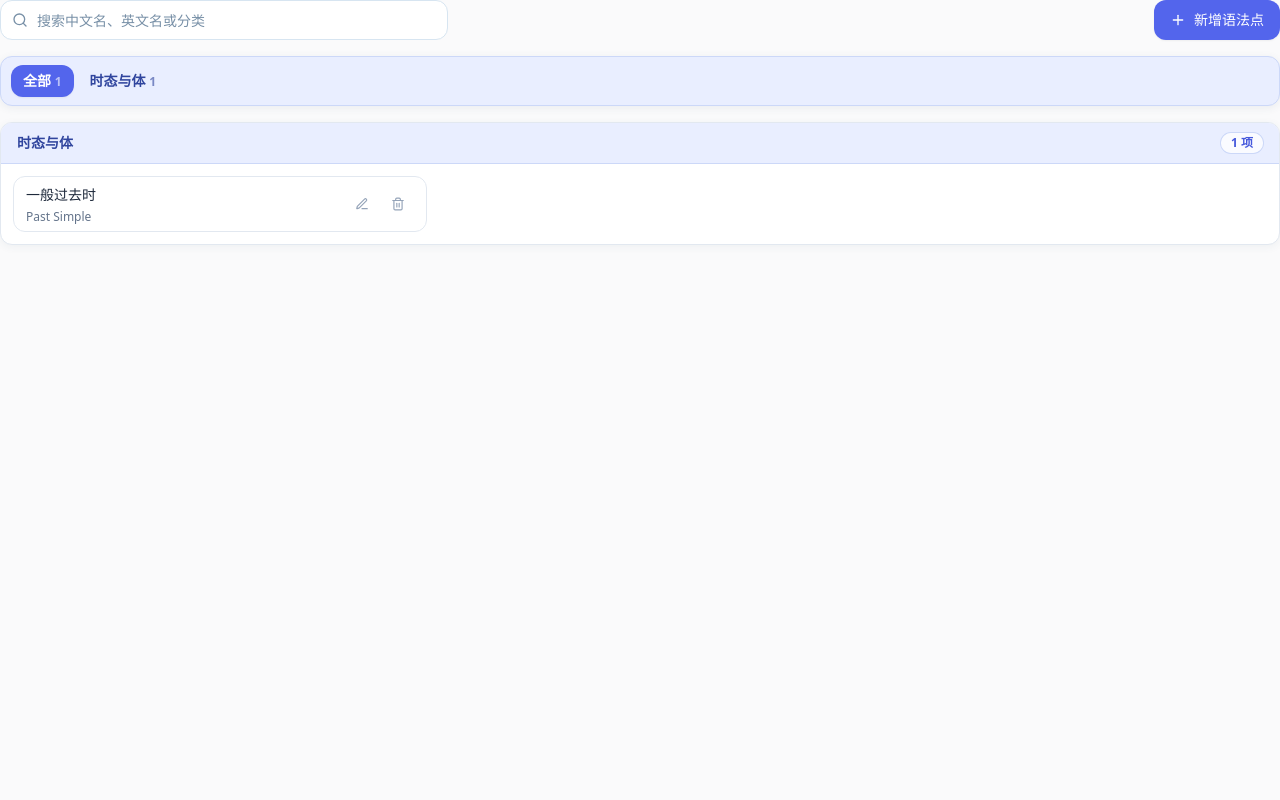
Scenario: PresetLibrary › deletes through the app dialog and removes the card
Expected: the heading "一般过去时" is shown, [26, 185, 96, 204]
Step 1. Click the button named "删除一般过去时" → (398, 204), box [382, 188, 414, 220]
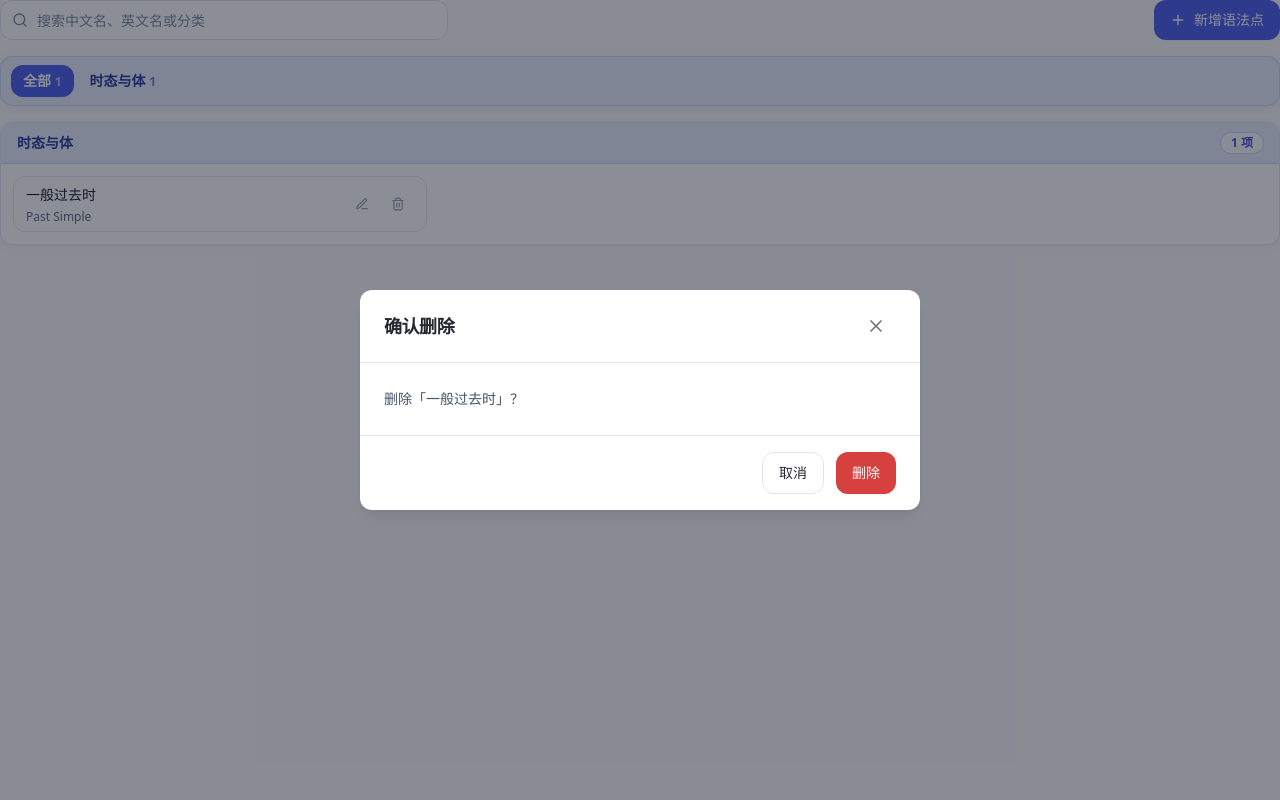
Expected: the dialog "确认删除" is shown, [360, 290, 920, 510]
Step 2. Click the button "删除" → (866, 473), box [836, 452, 896, 494]
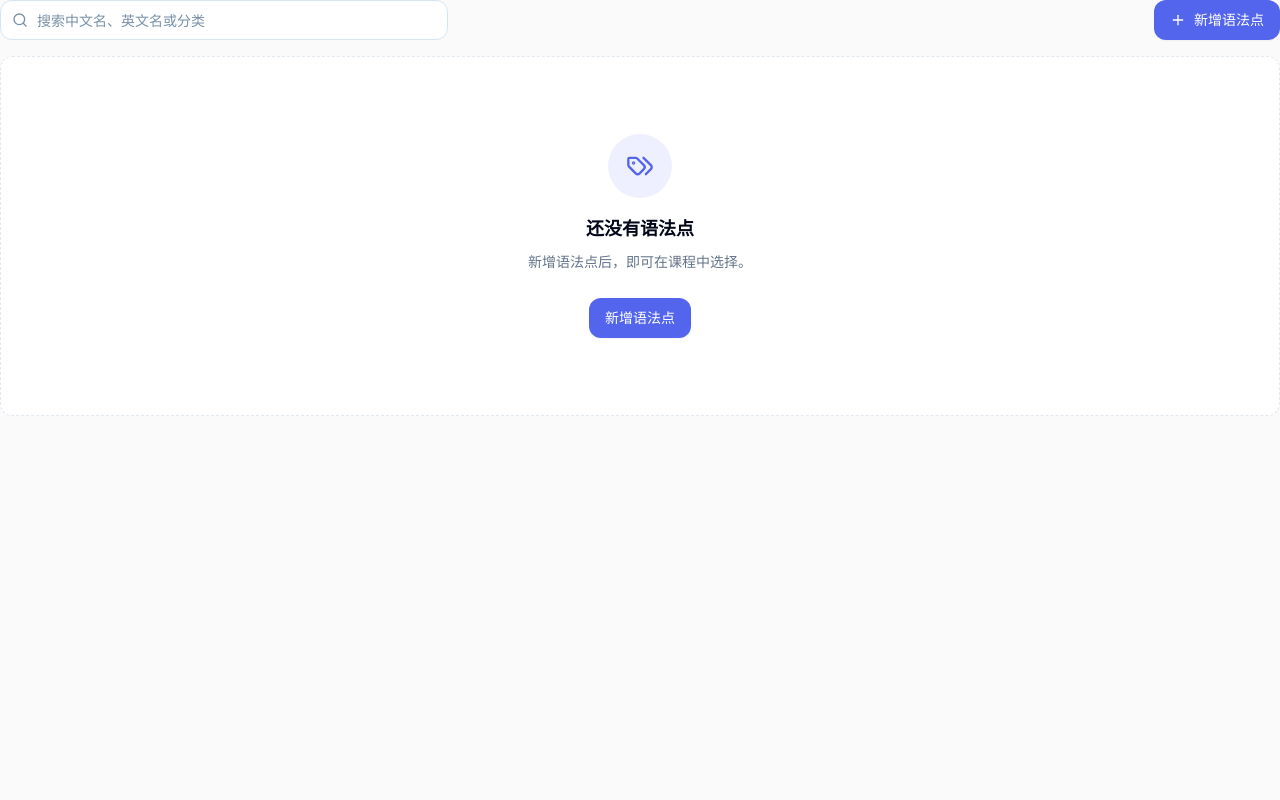
Expected: the heading "一般过去时" is gone
